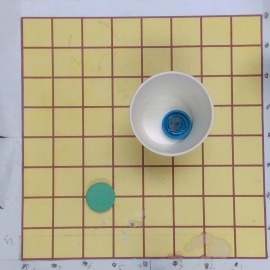blue: (85, 183, 116, 212)
cup_blue: (129, 71, 215, 159)
